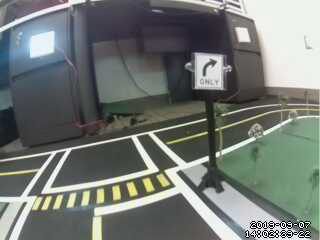Right_only_sign: (190, 52, 226, 96)
